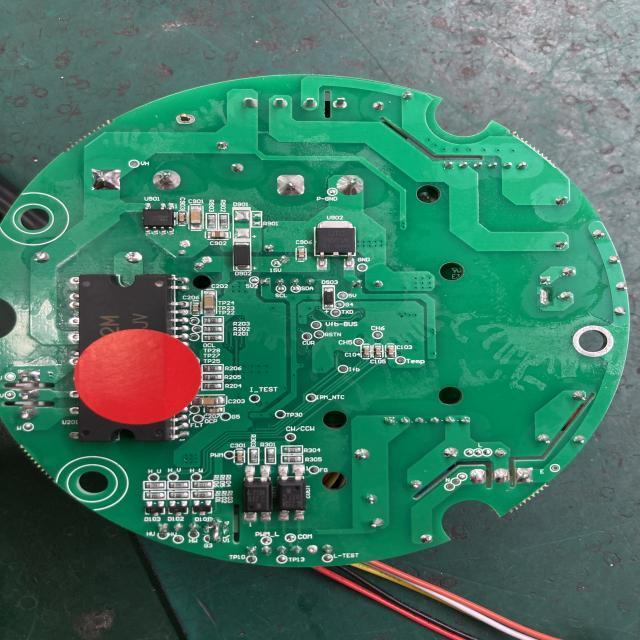damged: (205, 517, 228, 539), (536, 286, 554, 306)
